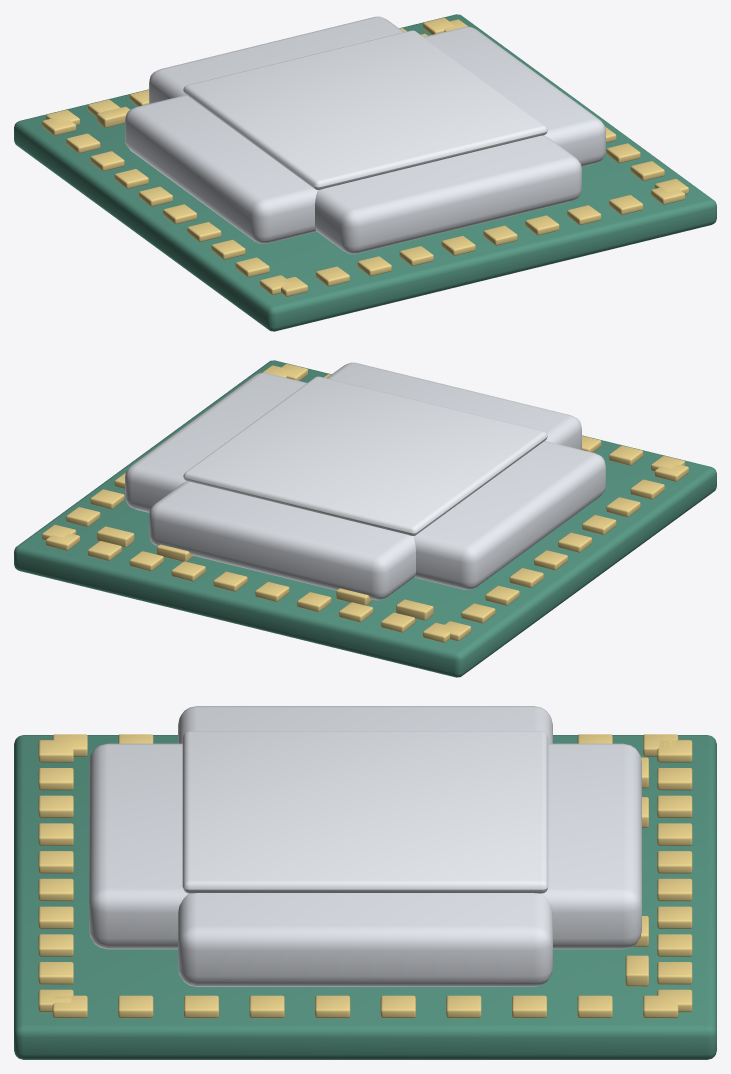
File: cpu_package.glb
3 views of the same model, one above another, from view 1: azimuth 30°, elevation 25°; view 2: azimuth 150°, elevation 25°; view 3: azimuth 270°, elevation 25° (orthographic). The views are drawn at different scales.
Visible parts, largest first — view 1: cpu_package; view 2: cpu_package; view 3: cpu_package.
Part boxes in pixels (box(x1,y1,x2,y2)): cpu_package: box(14, 14, 716, 331); cpu_package: box(14, 360, 716, 677); cpu_package: box(14, 706, 716, 1059).
Bounding box in the file's own units: 1.5 × 0.255 × 1.5.
